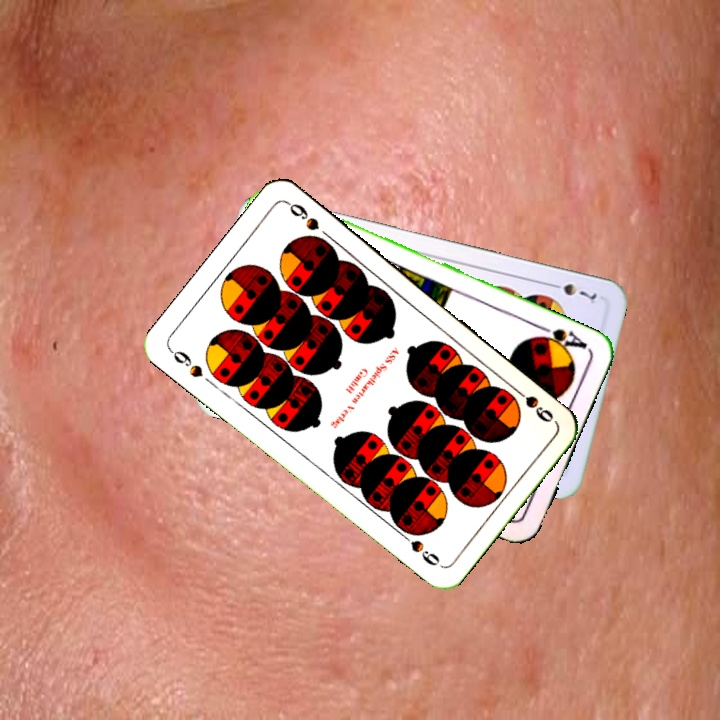S7: (544, 278, 600, 306)
S9: (507, 382, 556, 425), (165, 345, 206, 380)
SA: (532, 321, 592, 356)
